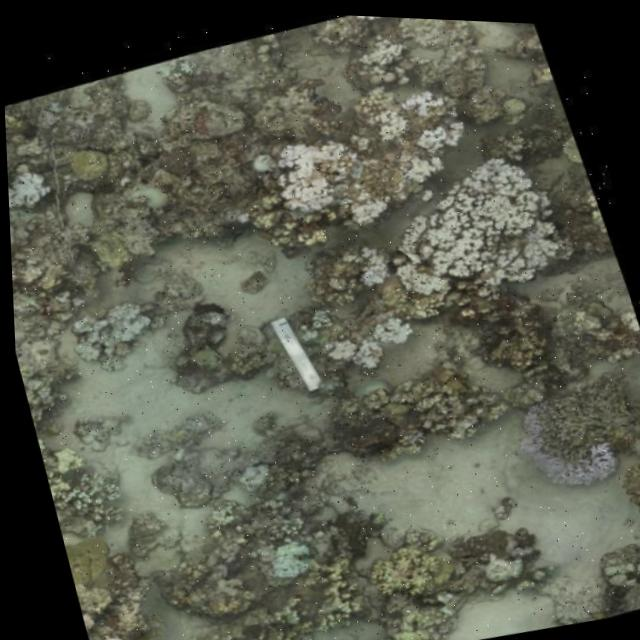Bleached Coral: (381, 141, 591, 306), (248, 108, 387, 225), (371, 63, 482, 165), (318, 309, 422, 377), (521, 426, 619, 495), (238, 517, 324, 594), (394, 126, 491, 187), (487, 395, 557, 462), (355, 18, 424, 74), (5, 148, 62, 206), (347, 239, 407, 292)
